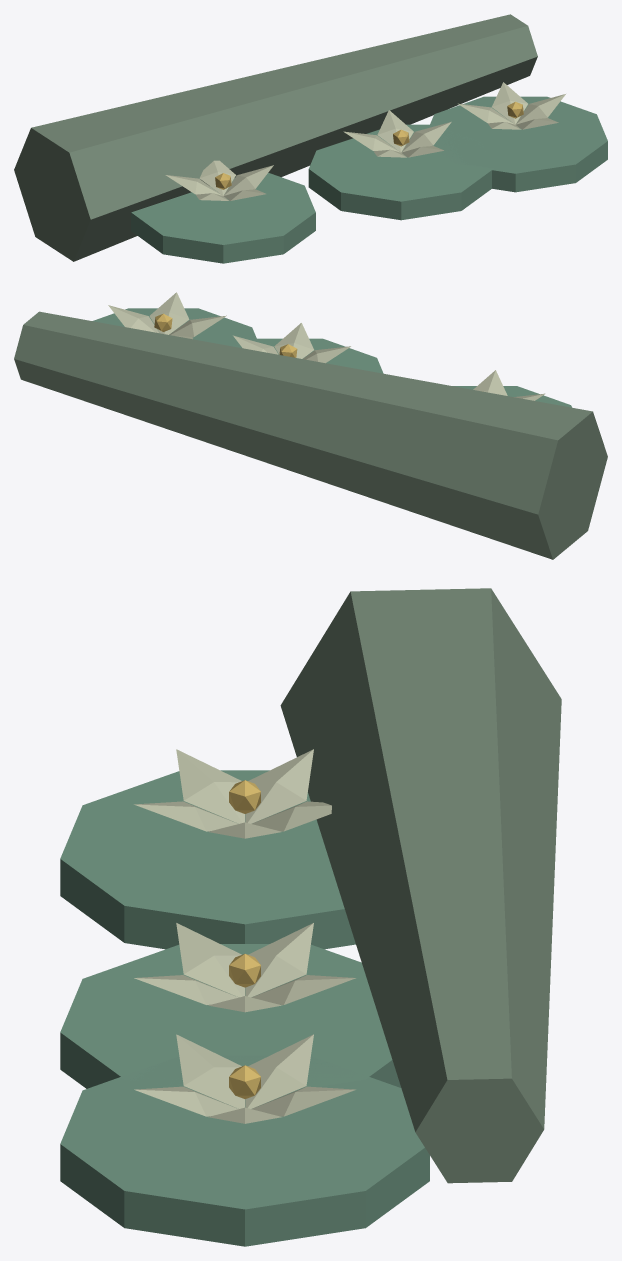
File: map-exclusive-v3__lake_09.glb
The picture shows the model from 3 angles, top to bottom: view 1: azimuth 30°, elevation 25°; view 2: azimuth 150°, elevation 25°; view 3: azimuth 270°, elevation 25°; orthographic projection. The views are drawn at different scales.
Visible parts, largest first — view 1: lake_09; view 2: lake_09; view 3: lake_09.
Part boxes in pixels (left/top/right/bottom): lake_09: left=14, top=14, right=607, bottom=263; lake_09: left=14, top=292, right=607, bottom=559; lake_09: left=60, top=588, right=561, bottom=1246.
Bounding box in the file's own units: 1.99 × 0.4153 × 0.8548.
